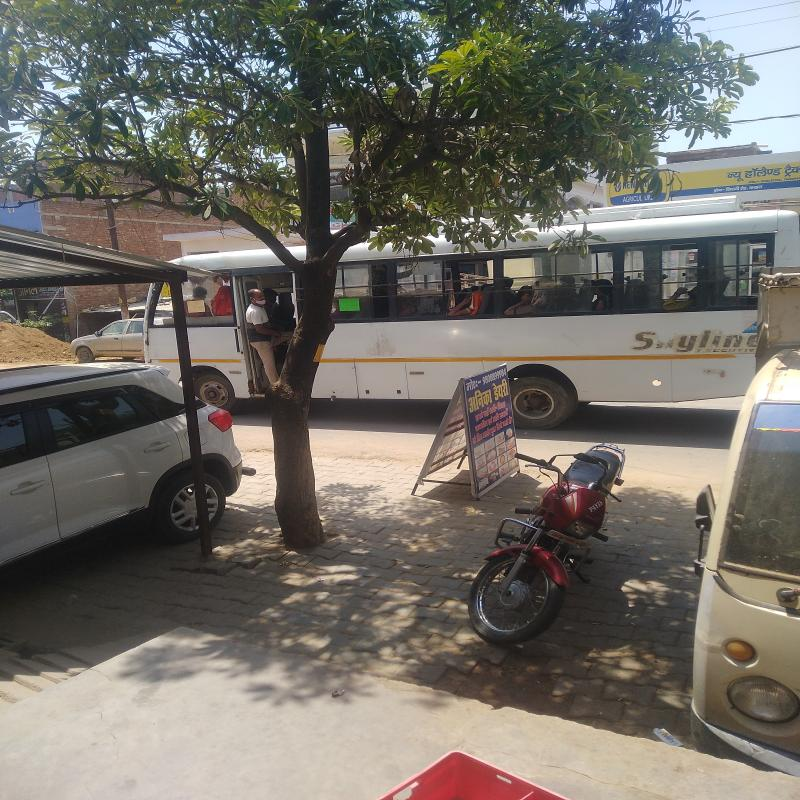bus: (113, 240, 790, 424)
